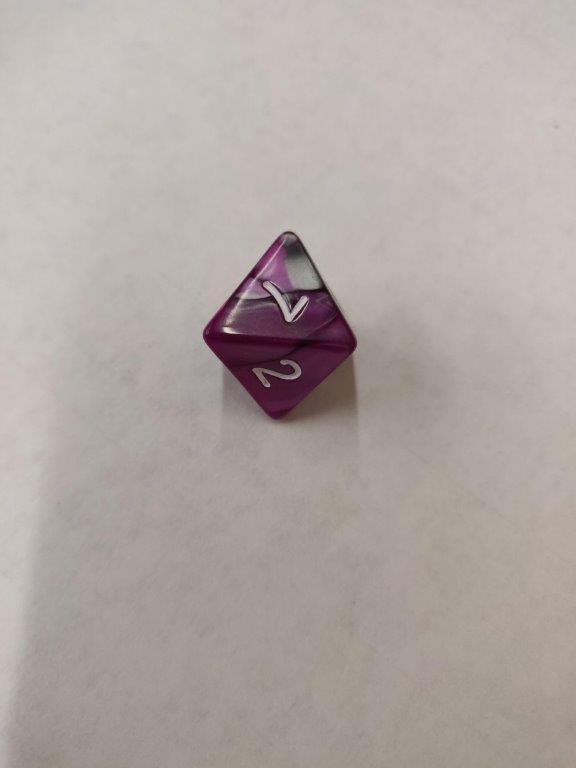d8-7: (201, 231, 357, 419)
